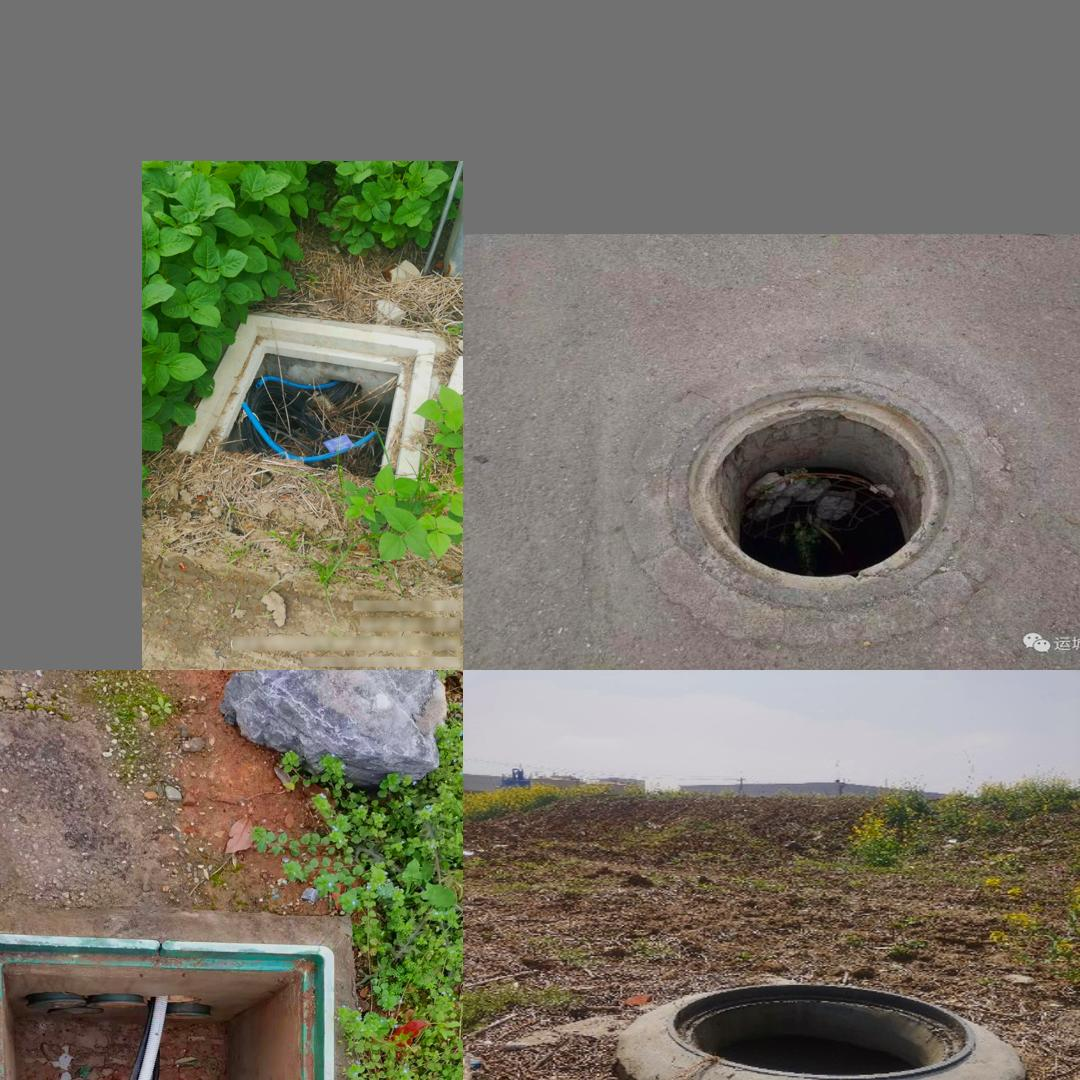lose: (645, 378, 982, 614), (0, 931, 335, 1080), (168, 313, 438, 497), (664, 982, 973, 1080)
